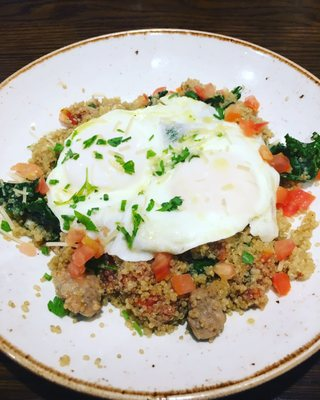curry: (0, 178, 61, 250), (147, 143, 190, 177)
